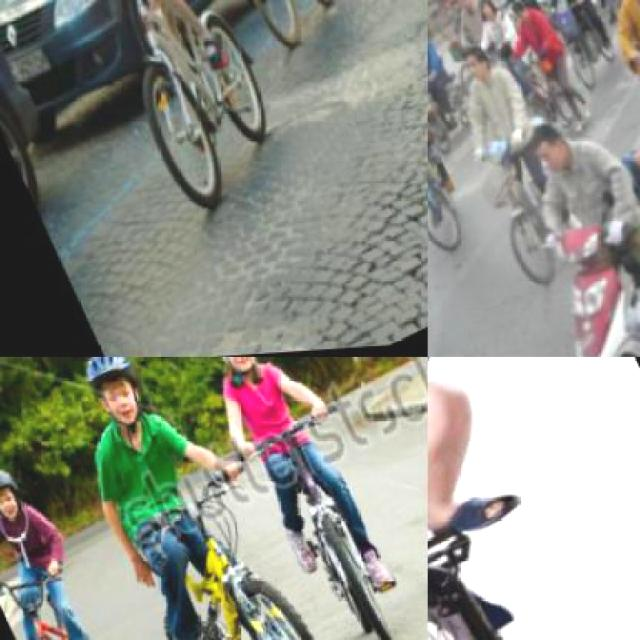With Helmet: (64, 357, 154, 437), (180, 357, 280, 401), (0, 454, 34, 537)
Without Helmet: (519, 118, 575, 187), (452, 36, 493, 89)
